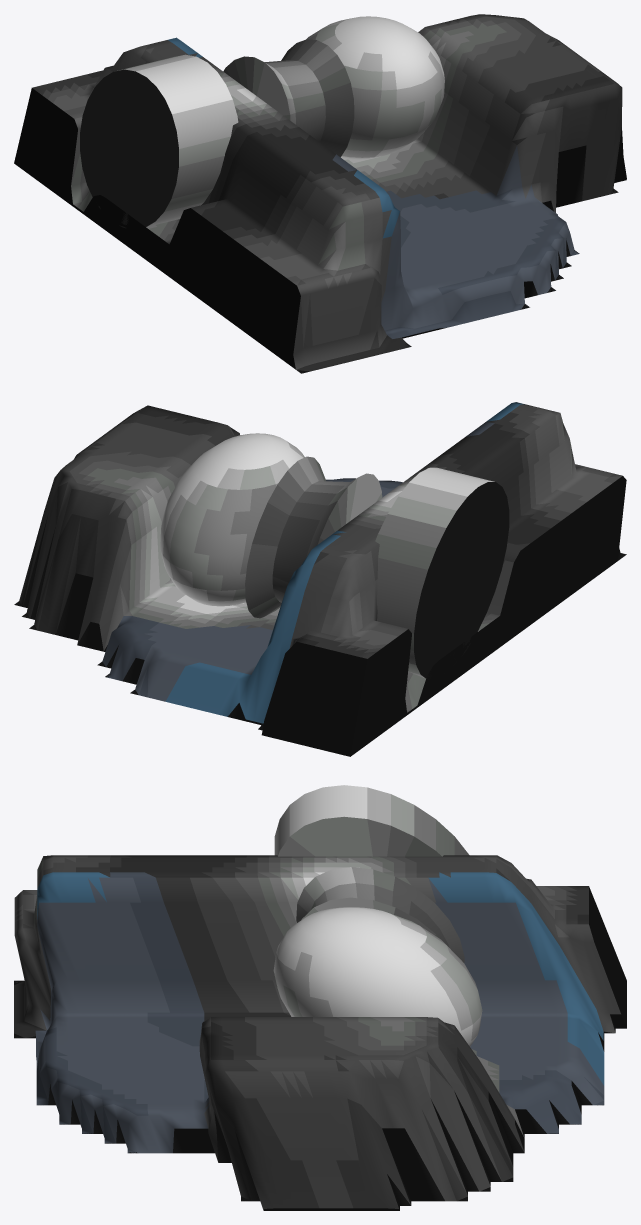
File: cannon_breech.glb
3 views of the same model, one above another, from view 1: azimuth 30°, elevation 25°; view 2: azimuth 150°, elevation 25°; view 3: azimuth 270°, elevation 25° (orthographic). The views are drawn at different scales.
Parts seen in each view (by area): view 1: cannon_breech; view 2: cannon_breech; view 3: cannon_breech.
Part boxes in pixels (box(x1,y1,x2,y2)): cannon_breech: box(14, 14, 626, 373); cannon_breech: box(14, 402, 626, 756); cannon_breech: box(14, 785, 626, 1210).
Bounding box in the file's own units: 24 × 9.5 × 27.
